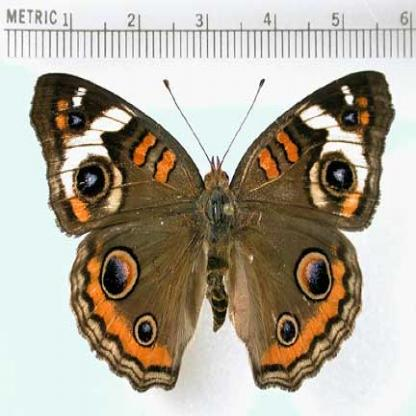Common Buckeye: (1, 1, 416, 416)
